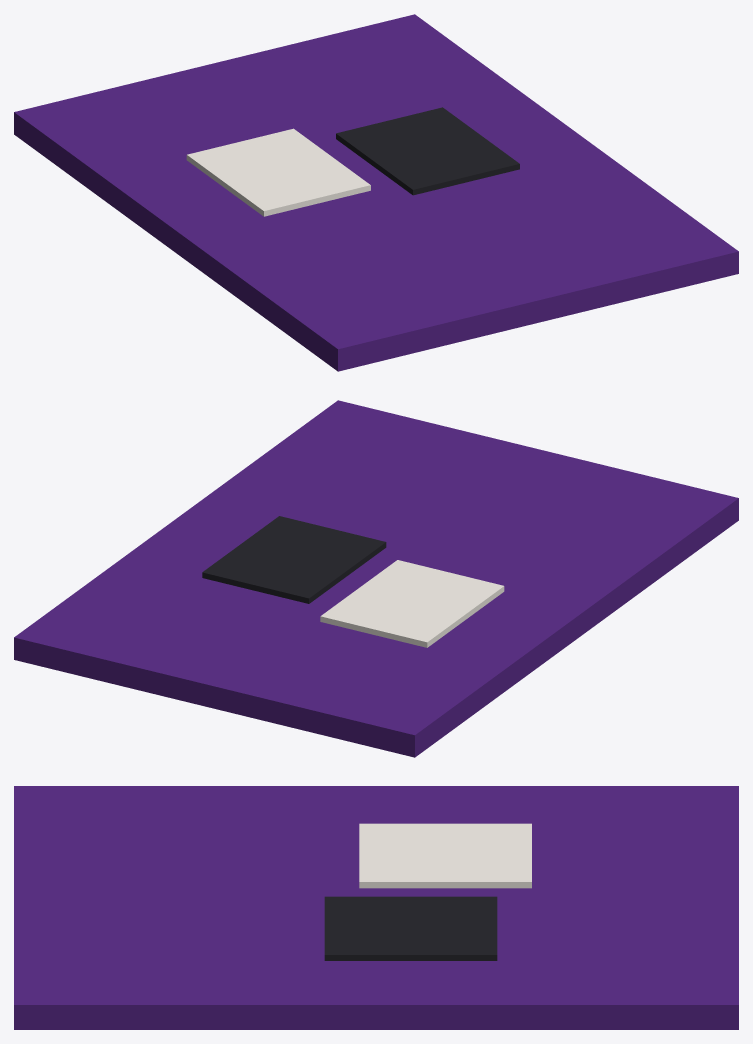
Rendered from play_program.glb.
The picture shows the model from 3 angles, top to bottom: view 1: azimuth 30°, elevation 25°; view 2: azimuth 150°, elevation 25°; view 3: azimuth 270°, elevation 25°; orthographic projection. The views are drawn at different scales.
Parts seen in each view (by area): view 1: cover_program_purple, masks_mask_white, masks_mask_black; view 2: cover_program_purple, masks_mask_white, masks_mask_black; view 3: cover_program_purple, masks_mask_white, masks_mask_black.
Boxes of the visible parts, bbox=[...] form: cover_program_purple: bbox=[14, 14, 738, 371]; masks_mask_white: bbox=[186, 128, 370, 216]; masks_mask_black: bbox=[336, 107, 519, 195]; cover_program_purple: bbox=[14, 400, 738, 757]; masks_mask_white: bbox=[320, 560, 504, 647]; masks_mask_black: bbox=[202, 516, 386, 603]; cover_program_purple: bbox=[14, 786, 738, 1029]; masks_mask_white: bbox=[359, 823, 531, 888]; masks_mask_black: bbox=[324, 896, 497, 960].
Bounding box in the file's own units: 0.15 × 0.01 × 0.21.
